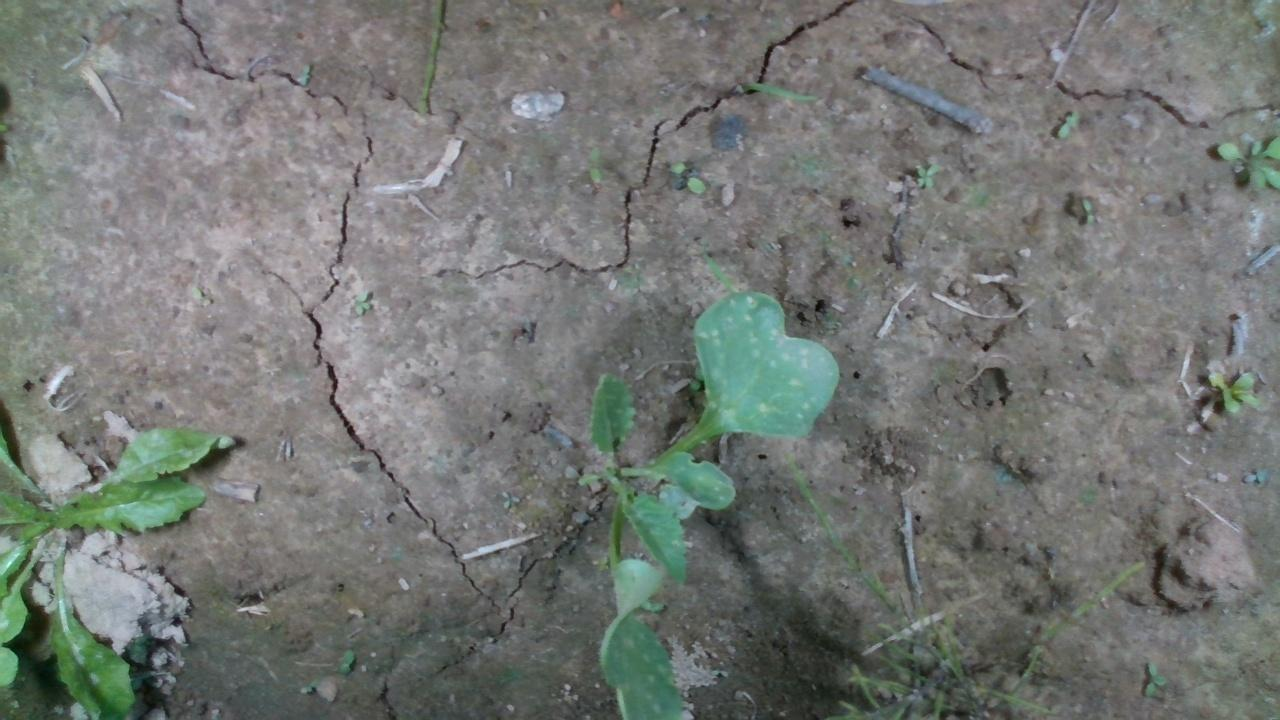weed: (1203, 368, 1256, 415), (666, 159, 706, 195), (1142, 655, 1168, 697), (584, 142, 603, 187), (332, 646, 357, 676), (1056, 107, 1078, 137), (349, 287, 371, 315), (914, 163, 938, 188), (1241, 465, 1268, 487)
